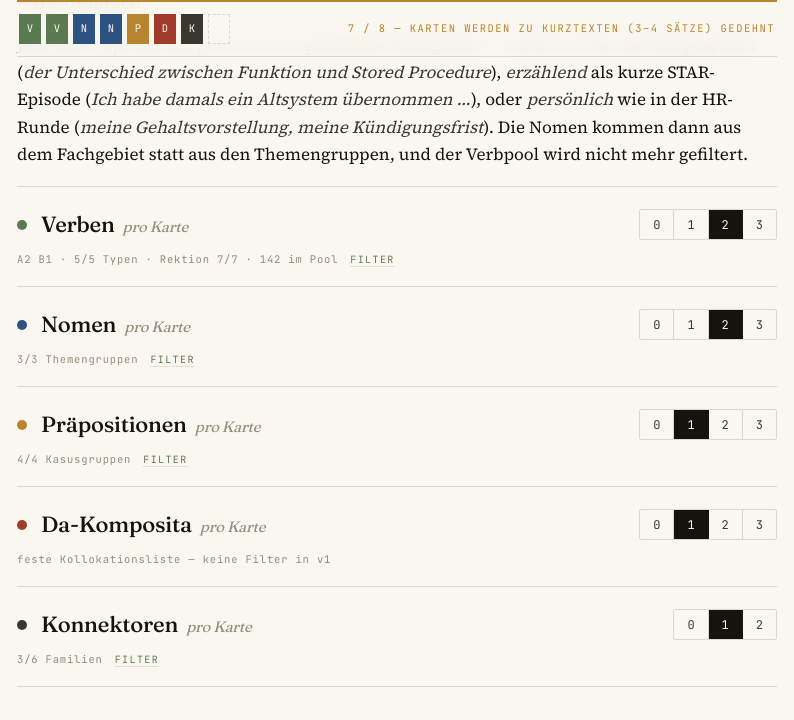
Test case: Fachgebiet › shows the block, and with no Domain the Themen chips stay live
(page scrolled)
Click the button with class "sna-flt" next to "3/3 Themengruppen" at (173, 360), box top-left (150, 353), bottom-right (195, 367)
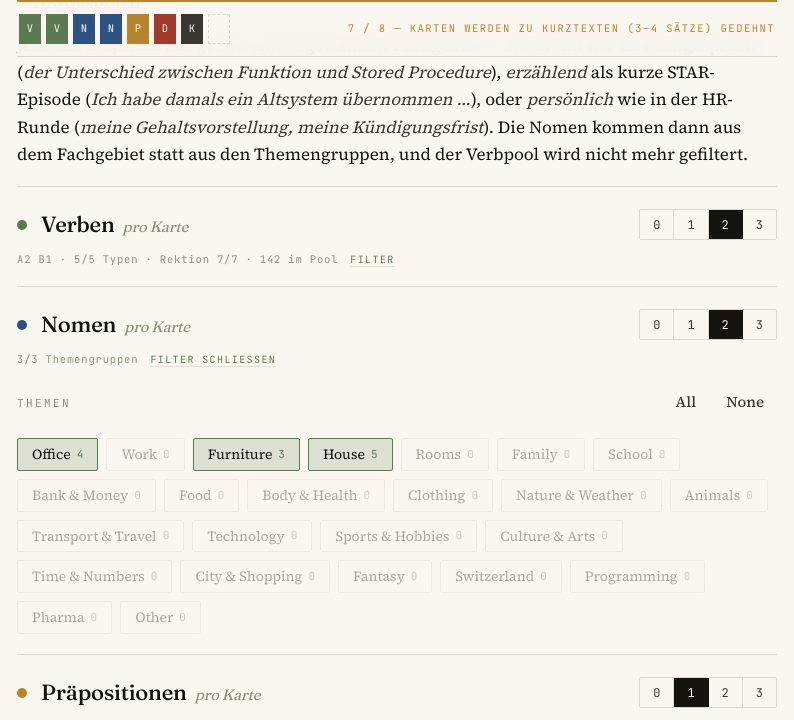
Result: the button with class "chip" showing "Office 4" is enabled at top-left (17, 438), bottom-right (98, 471)
